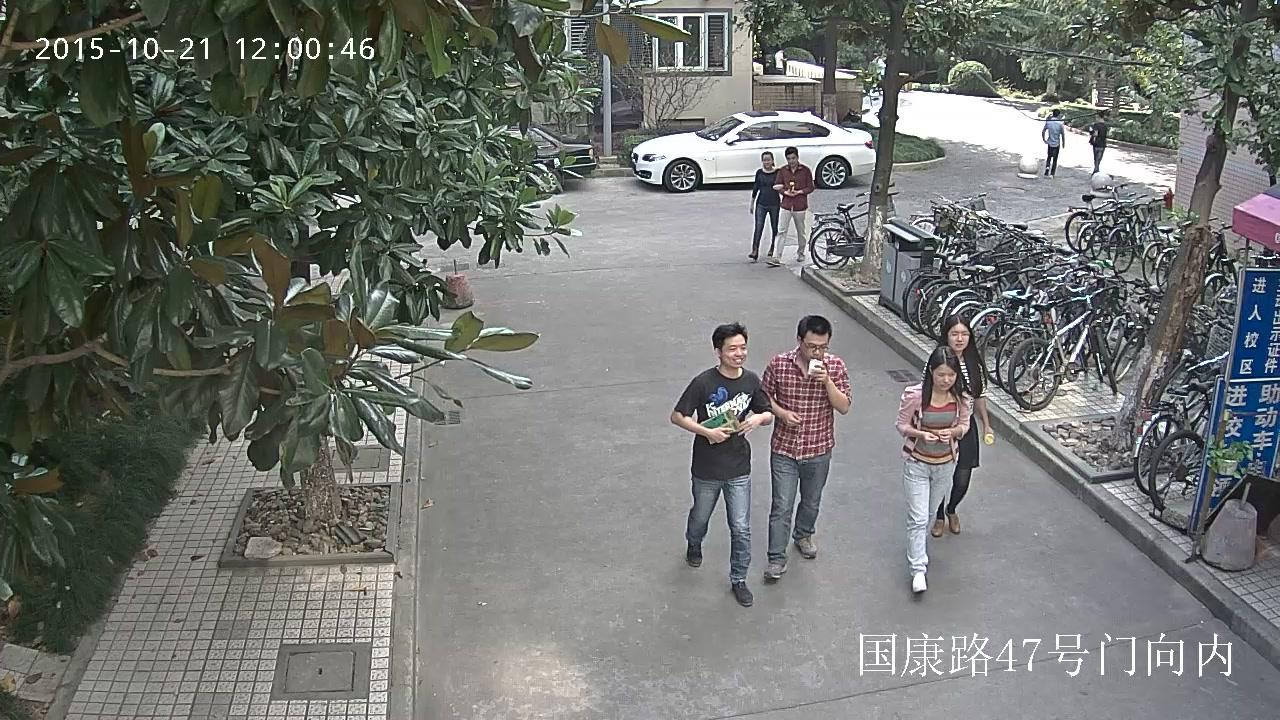face: (720, 335, 748, 366), (801, 331, 830, 360), (932, 363, 958, 390), (948, 323, 969, 351), (761, 154, 771, 168), (786, 153, 796, 165), (1094, 114, 1098, 120)
